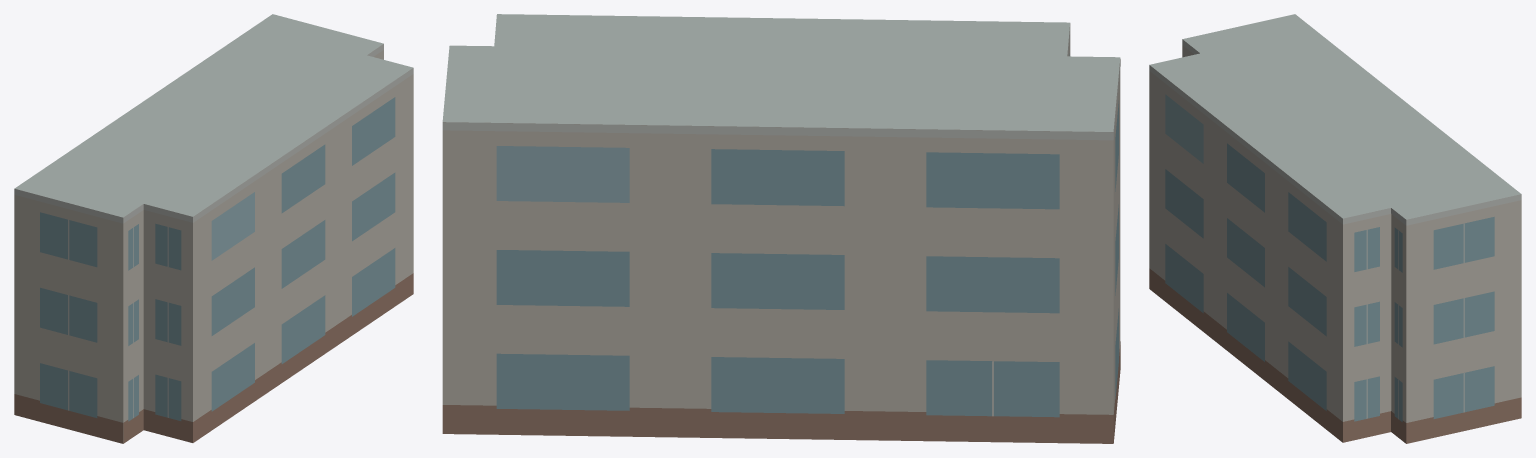
File: survey-upis-32832900.glb
3 renders of one model, left to right at view 1: azimuth 30°, elevation 25°; view 2: azimuth 150°, elevation 25°; view 3: azimuth 270°, elevation 25°, orthographic. The views are drawn at different scales.
Parts seen in each view (by area): view 1: survey-upis-32832900.tmp; view 2: survey-upis-32832900.tmp; view 3: survey-upis-32832900.tmp.
Part boxes in pixels (bbox=[...]): survey-upis-32832900.tmp: bbox=[14, 14, 413, 443]; survey-upis-32832900.tmp: bbox=[442, 14, 1120, 443]; survey-upis-32832900.tmp: bbox=[1149, 14, 1521, 443].
Bounding box in the file's own units: 18.03 × 9.15 × 13.78.
